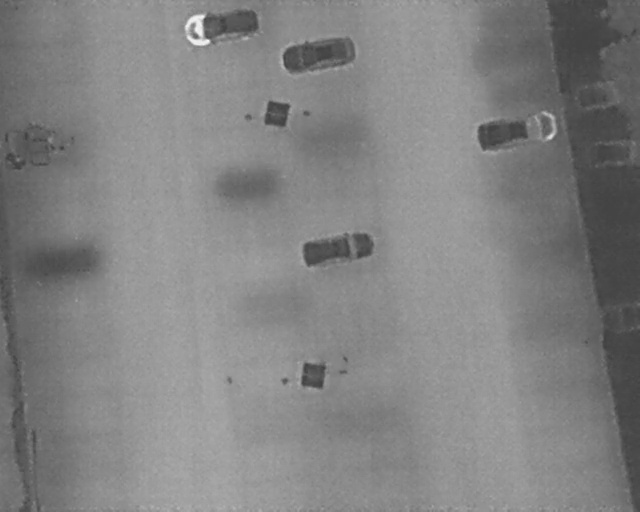Car: (474, 107, 559, 154), (278, 29, 358, 77), (181, 3, 261, 48), (300, 227, 376, 269), (569, 73, 636, 115), (588, 136, 640, 167), (603, 301, 640, 331)
